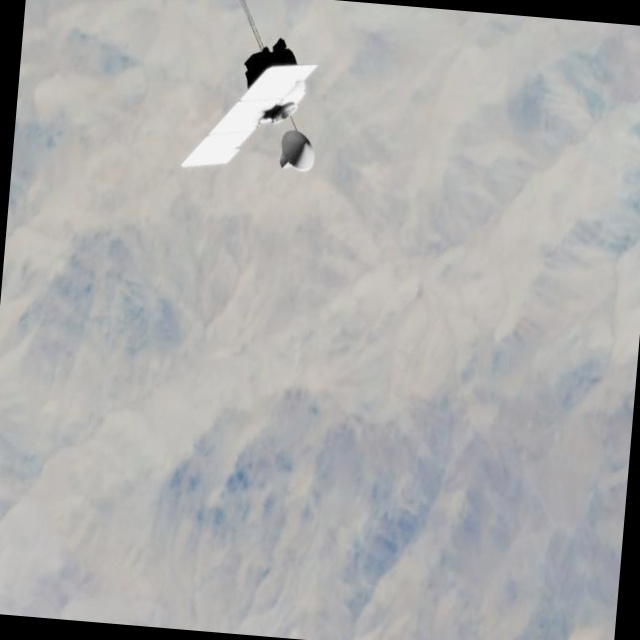medium_debris: (169, 31, 354, 214)
